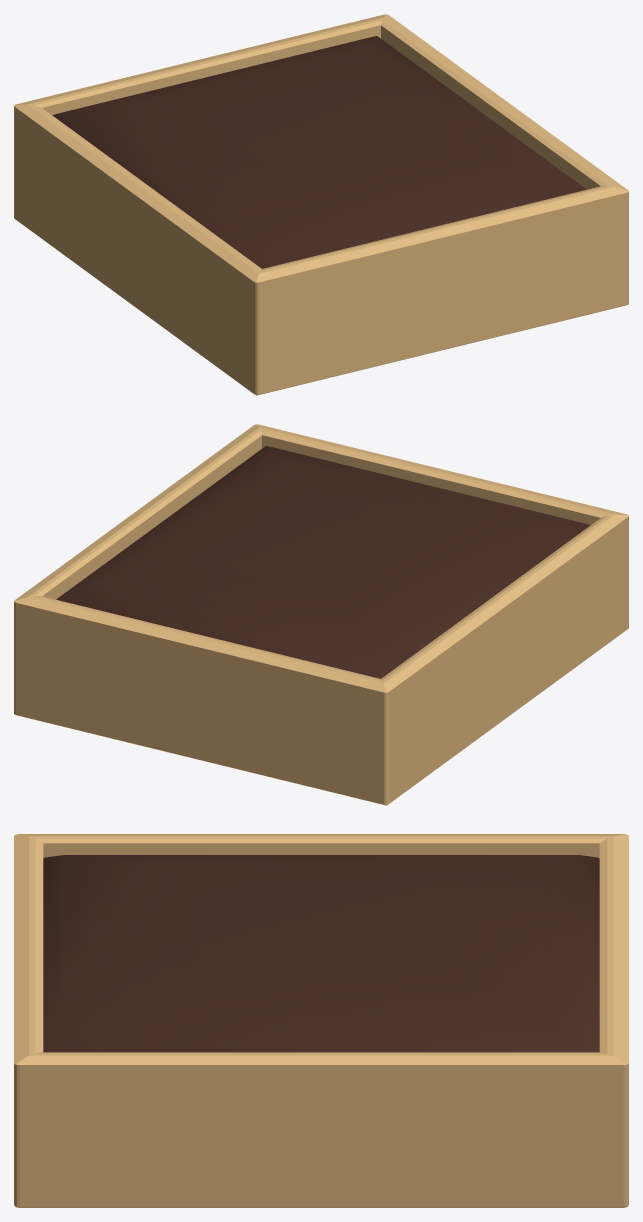
Rendered from garden-box.fbx.
The picture shows the model from 3 angles, top to bottom: view 1: azimuth 30°, elevation 25°; view 2: azimuth 150°, elevation 25°; view 3: azimuth 270°, elevation 25°; orthographic projection. The views are drawn at different scales.
Parts seen in each view (by area): view 1: Garden box; view 2: Garden box; view 3: Garden box.
Boxes of the visible parts, x1,y1,x2,y2 form: Garden box: (14,14,628,395); Garden box: (14,424,628,805); Garden box: (14,834,628,1207).
Size of the model in its own units: 1600 by 538 by 1800.
